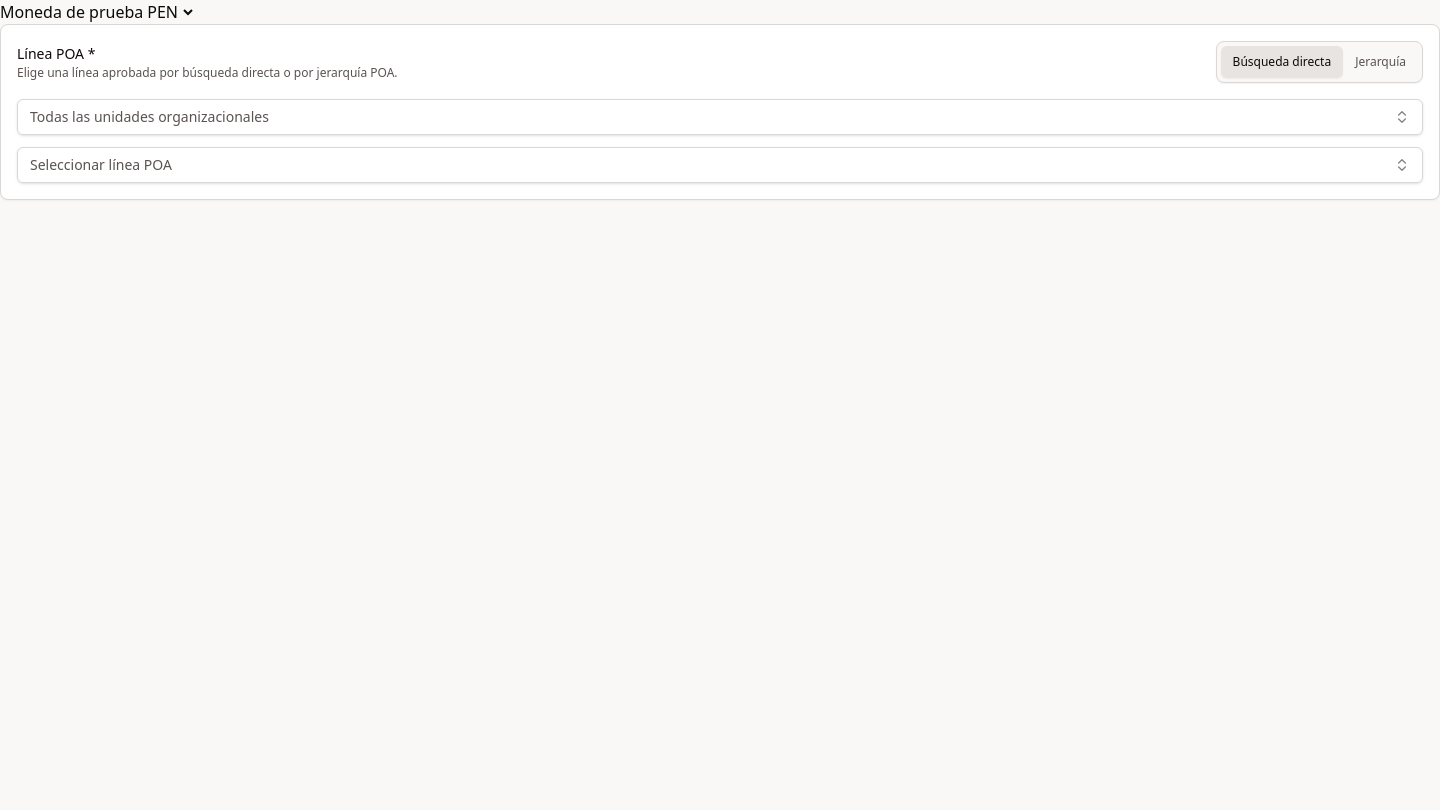
Test: PlanningLineSelector › shows the actual currency and disables USD and unresolved lines for PEN
What coordinates should you click on to do the following:
click the button with test id "request-planning-line-trigger"
I would click on:
 (101, 164)
Its box is [17,147,1423,183].
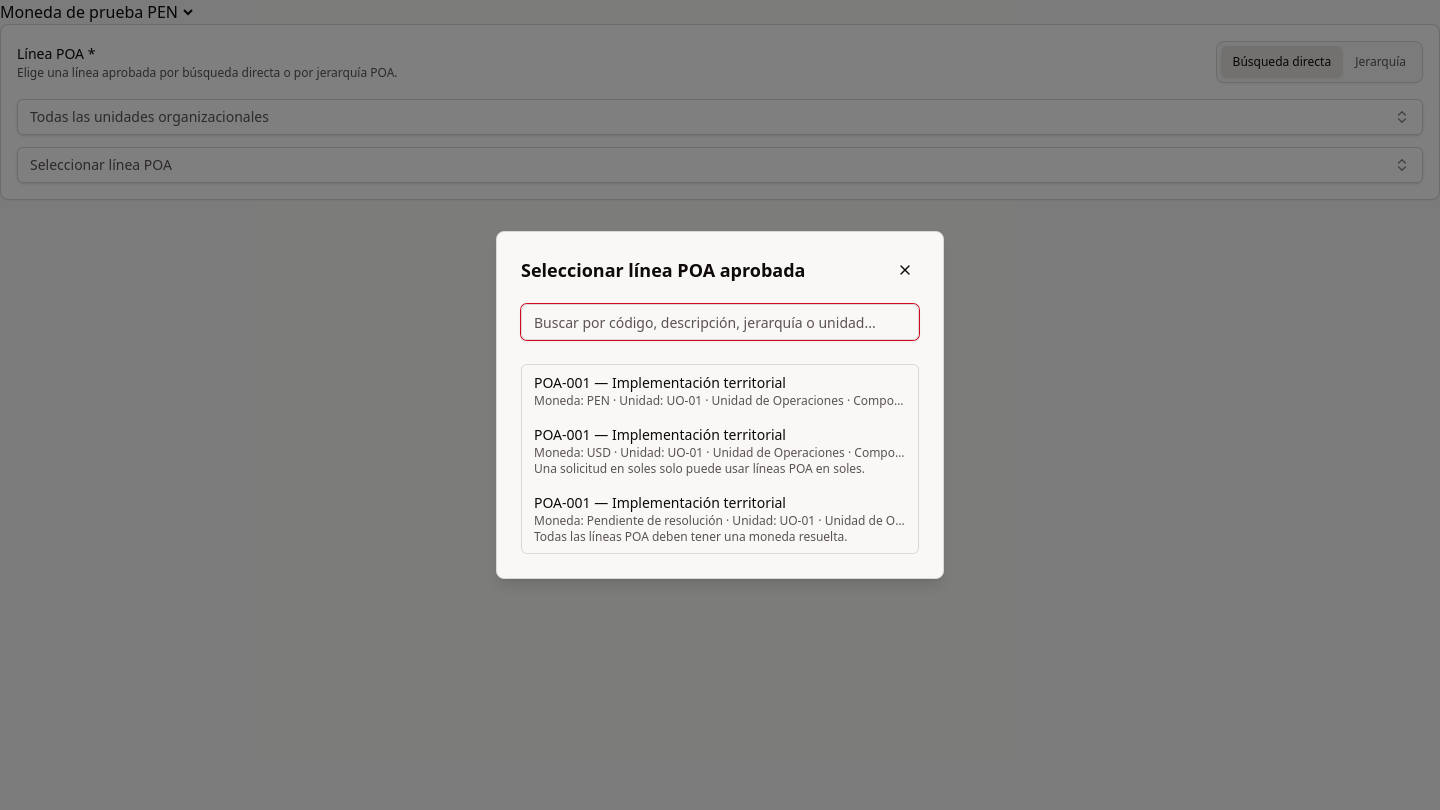
Expected: the 1st button with test id "request-planning-line-trigger-option" is enabled, [522,365,918,417]
Expected: the 2nd button with test id "request-planning-line-trigger-option" is disabled, [522,417,918,485]
Expected: the button with test id "request-planning-line-trigger-option" shows "Una solicitud en soles solo puede usar líneas POA en soles.", [522,417,918,485]
